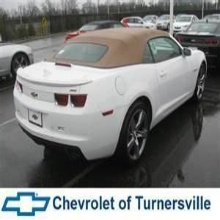no damage: (13, 27, 207, 161)
